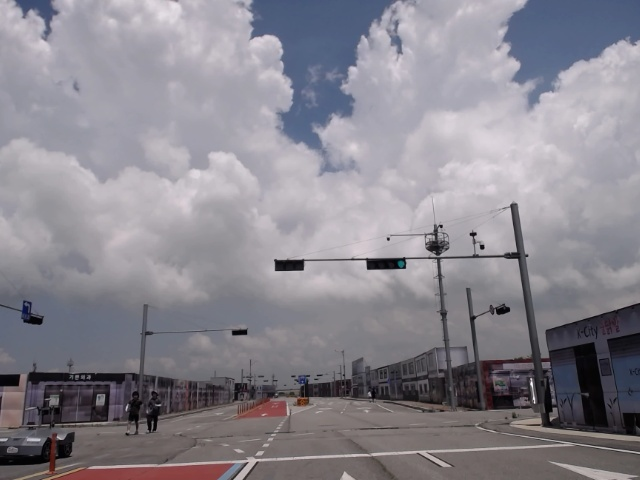straight_green_4: (366, 259, 406, 268)
